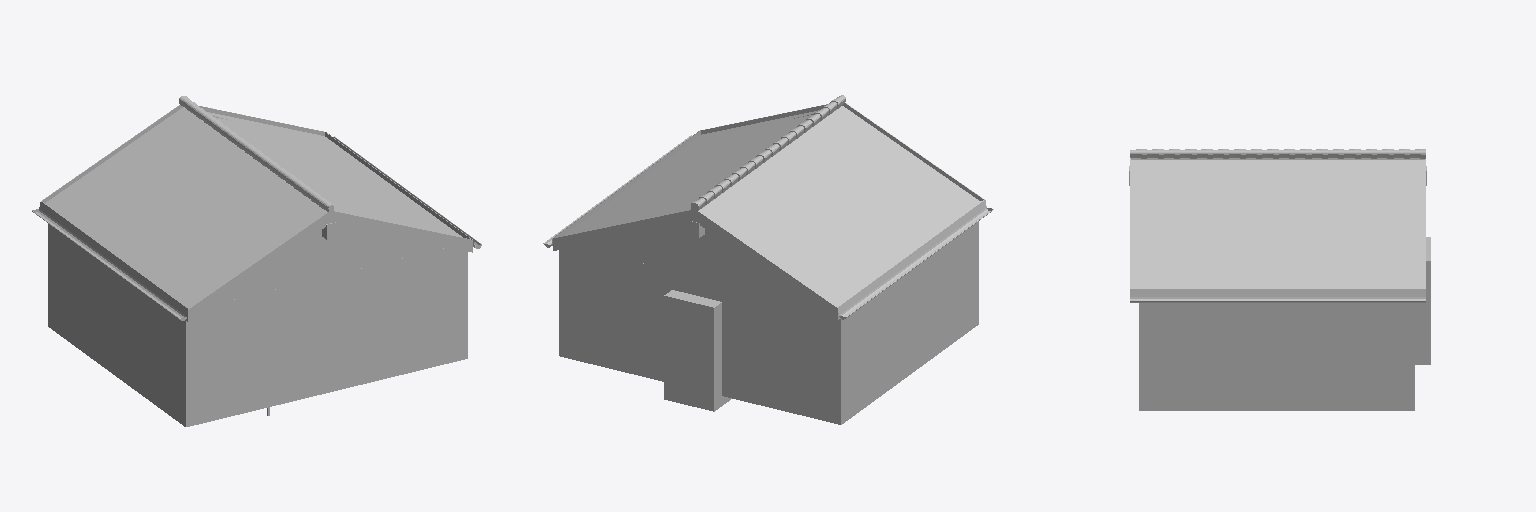
Rendered from 1stroom.obj.
3 views of the same model, side by side, from view 1: azimuth 30°, elevation 25°; view 2: azimuth 150°, elevation 25°; view 3: azimuth 270°, elevation 25° (orthographic).
Visible parts, largest first — view 1: Roof, Wall.003_Wall.005, Triangle.001_Cube.006; view 2: Roof, Wall.003_Wall.005, Cube.001_Cube.002, Triangle_Cube.005; view 3: Roof, Wall.003_Wall.005, Cube.001_Cube.002.
Boxes of the visible parts, x1=… form: Roof: x1=32, y1=96, x2=481, y2=321; Wall.003_Wall.005: x1=48, y1=224, x2=467, y2=426; Triangle.001_Cube.006: x1=216, y1=225, x2=446, y2=303; Roof: x1=543, y1=95, x2=993, y2=320; Wall.003_Wall.005: x1=559, y1=221, x2=978, y2=424; Cube.001_Cube.002: x1=664, y1=290, x2=731, y2=411; Triangle_Cube.005: x1=576, y1=209, x2=813, y2=304; Roof: x1=1129, y1=149, x2=1426, y2=302; Wall.003_Wall.005: x1=1139, y1=303, x2=1414, y2=410; Cube.001_Cube.002: x1=1415, y1=237, x2=1430, y2=364.
Bounding box in the file's own units: 7.46 × 5.01 × 6.42.